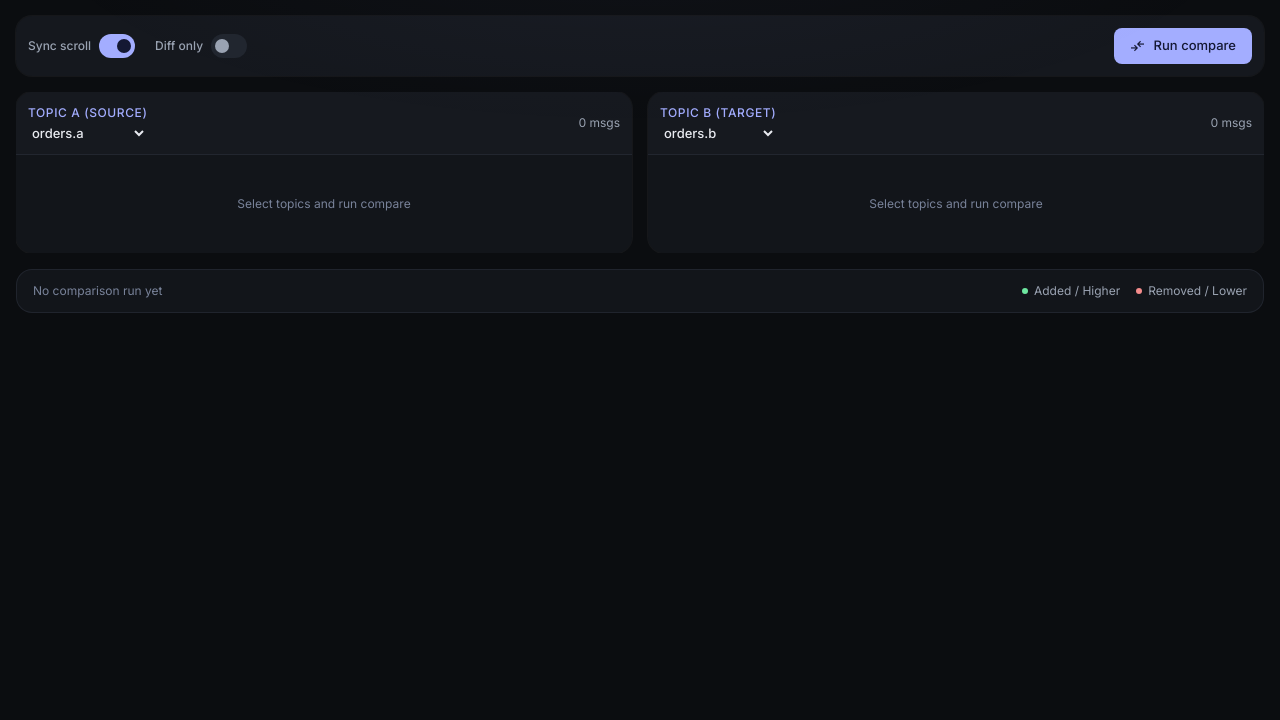
Test: Compare › keeps both panes on the same pair under "Diff only"
The width and height of the screenshot is (1280, 720).
Expected: the dropdown named "Topic A" is shown, 28,124 -> 148,142
Click the button "Run compare" at (1183, 46), box 1114,28 -> 1252,64
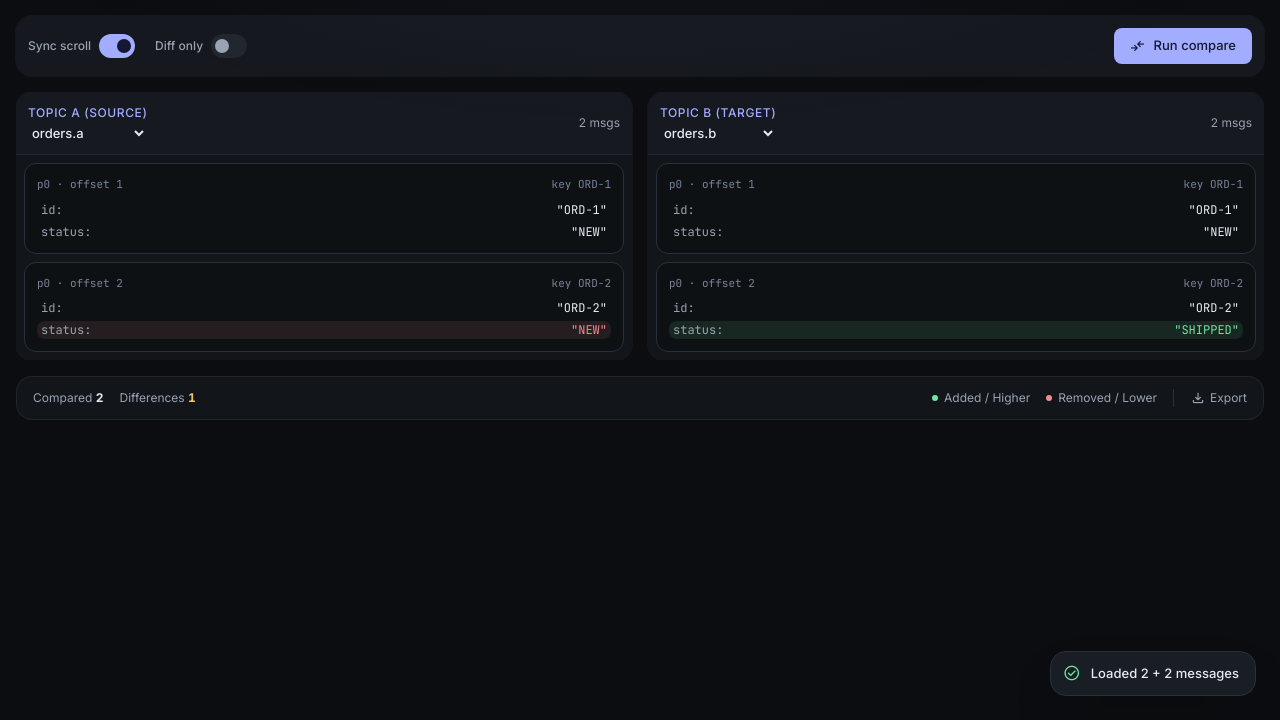
Now the text "p0 · offset 2" is shown 2 times, box 37,274 -> 123,291; 669,274 -> 755,291
Click the switch named "diff only" at (229, 46), box 211,34 -> 247,58
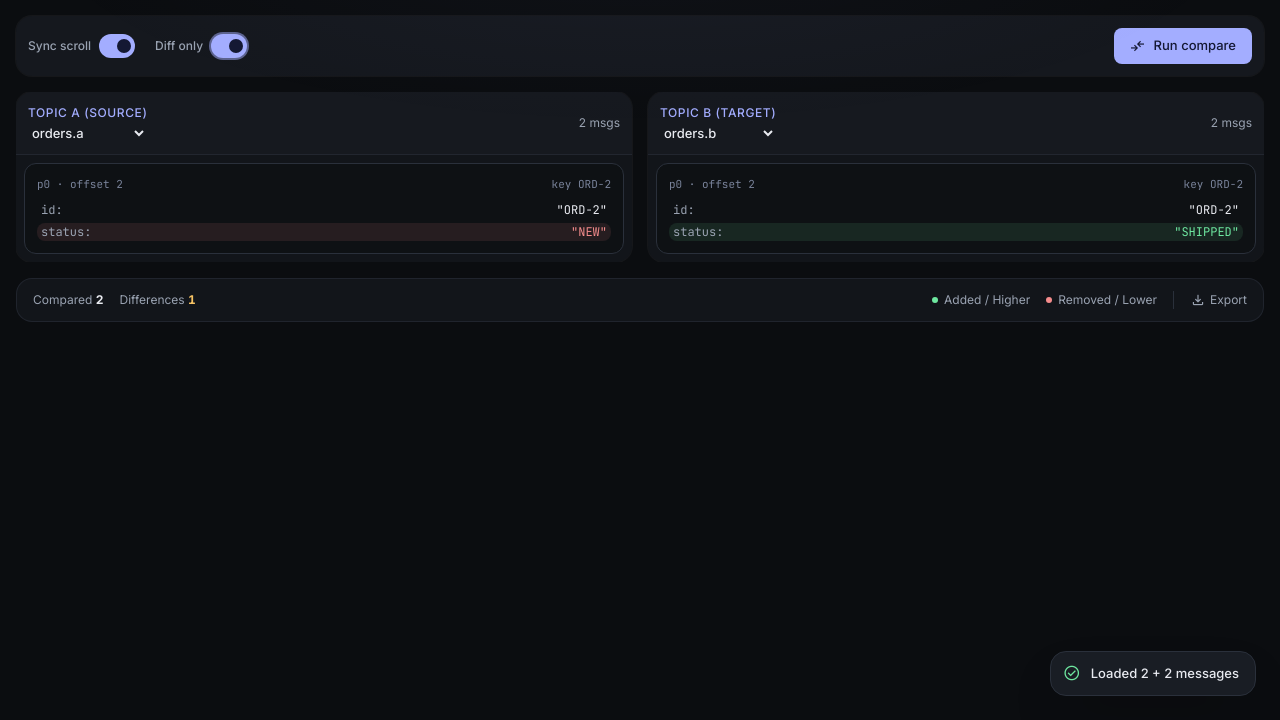
Now the text "offset 1" is not shown
Now the text "p0 · offset 2" is shown 2 times, box 37,176 -> 123,192; 669,176 -> 755,192
